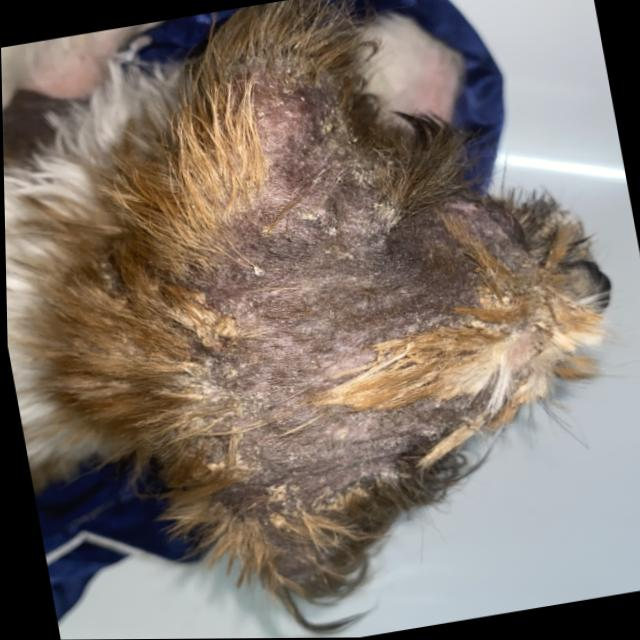demodicosis: (174, 203, 484, 503), (225, 60, 384, 224), (254, 486, 369, 594)
